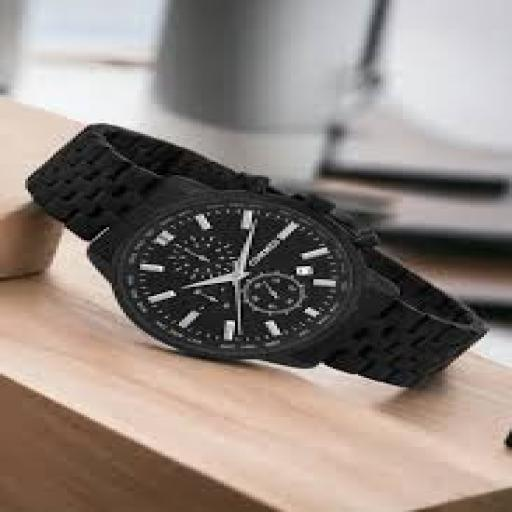KolSaati: (15, 78, 488, 413)
